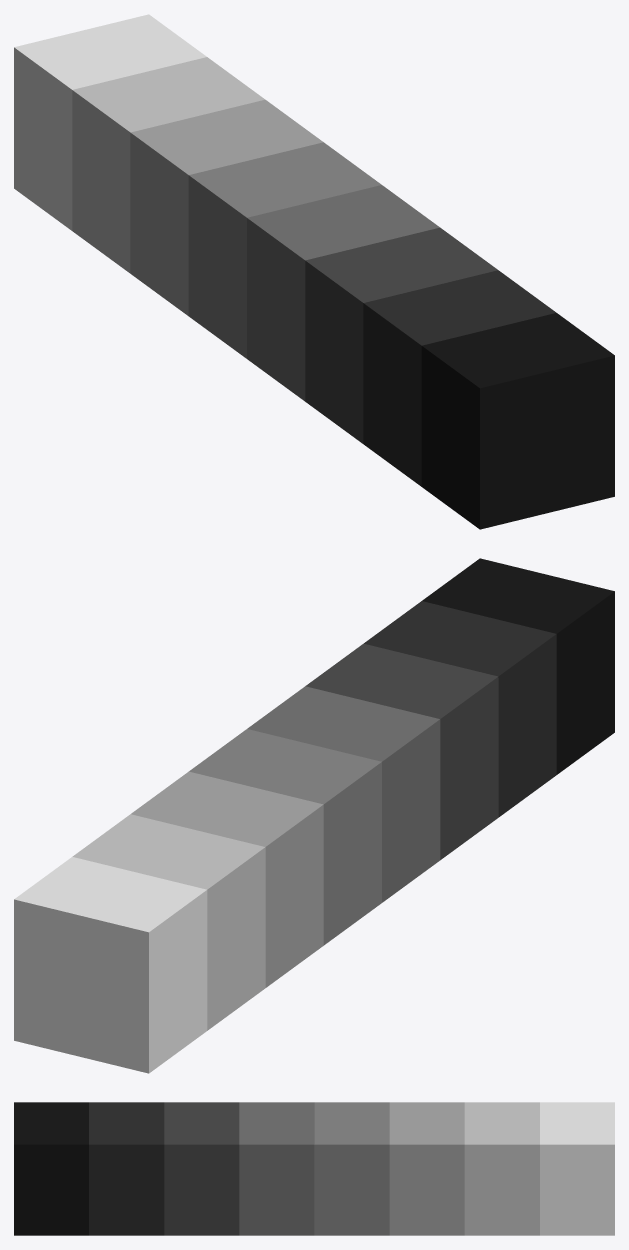
Rendered from TestModel.fbx.
3 renders of one model, top to bottom at view 1: azimuth 30°, elevation 25°; view 2: azimuth 150°, elevation 25°; view 3: azimuth 270°, elevation 25°, orthographic. The views are drawn at different scales.
Parts seen in each view (by area): view 1: Cube; view 2: Cube; view 3: Cube.
Part boxes in pixels (x1=…): Cube: x1=14, y1=14, x2=614, y2=529; Cube: x1=14, y1=558, x2=614, y2=1073; Cube: x1=14, y1=1102, x2=614, y2=1235.
Size of the model in its own units: 200 by 200 by 1196.
